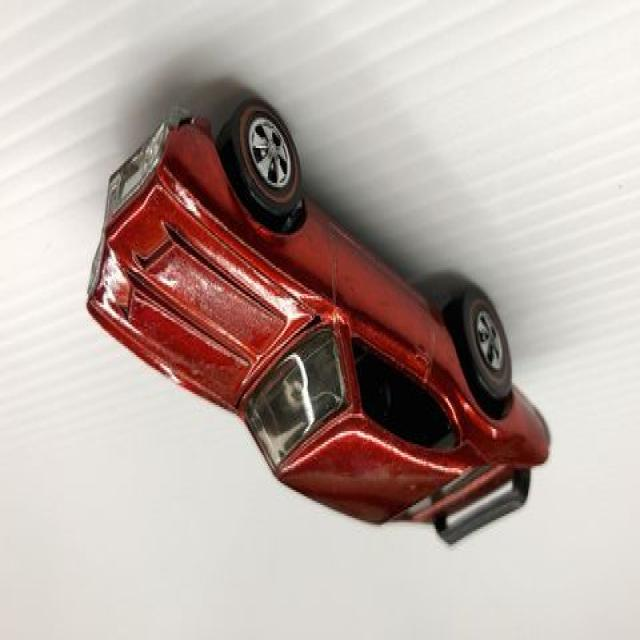Car: (85, 98, 551, 551)
